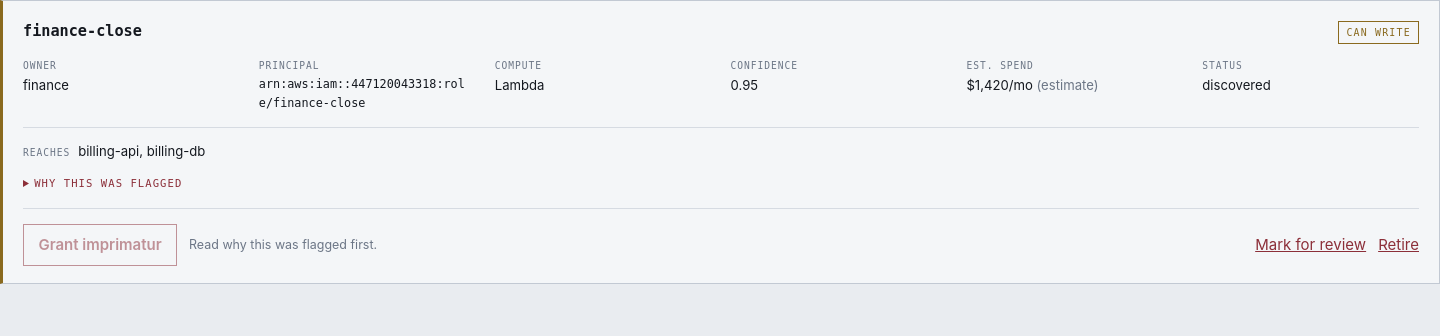
Test: what a finding shows › says so when a finding has no evidence rather than showing nothing
Click the heading "Why this was flagged" at (108, 183), box 34,177 -> 182,189
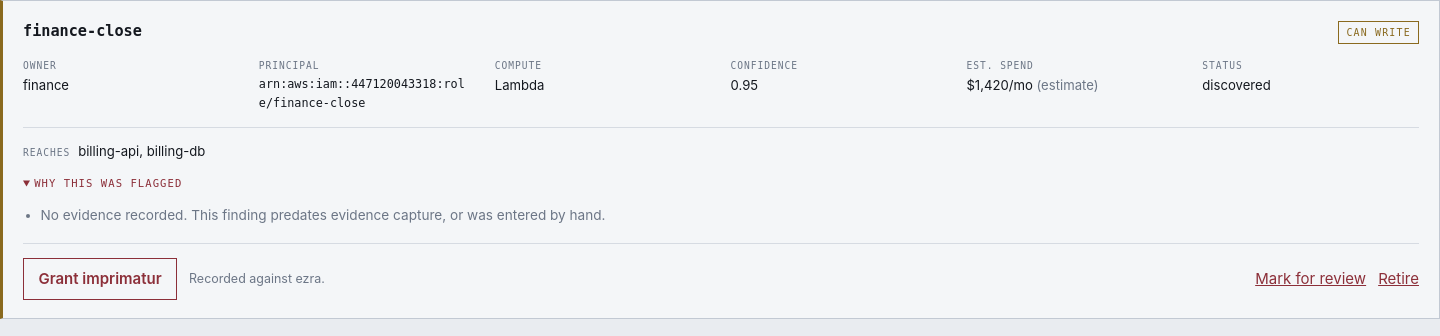
Expected: the list item "No evidence recorded" is shown, 41,207 -> 606,223
